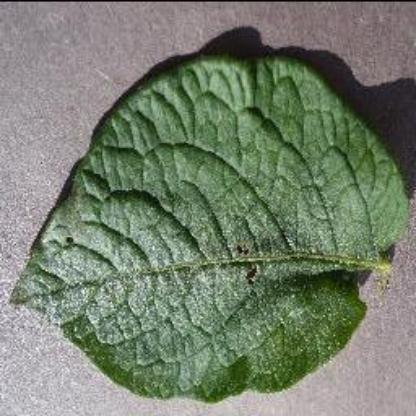Healthy-plant: (9, 41, 410, 405)
